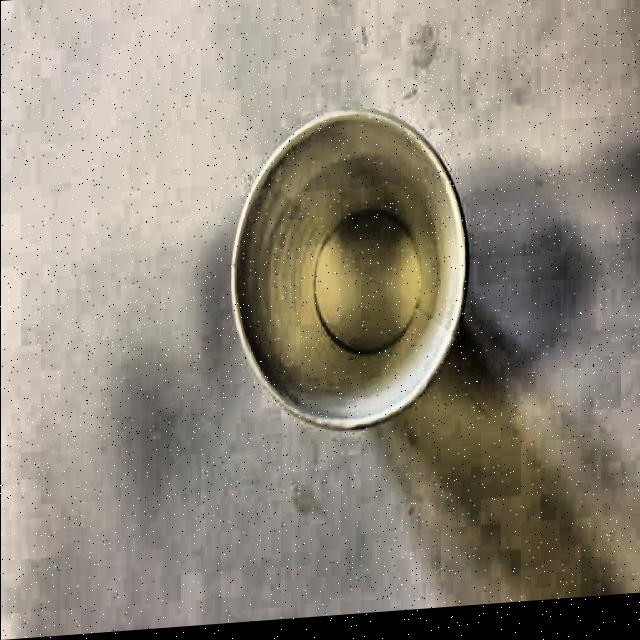trash: (218, 60, 478, 453)
